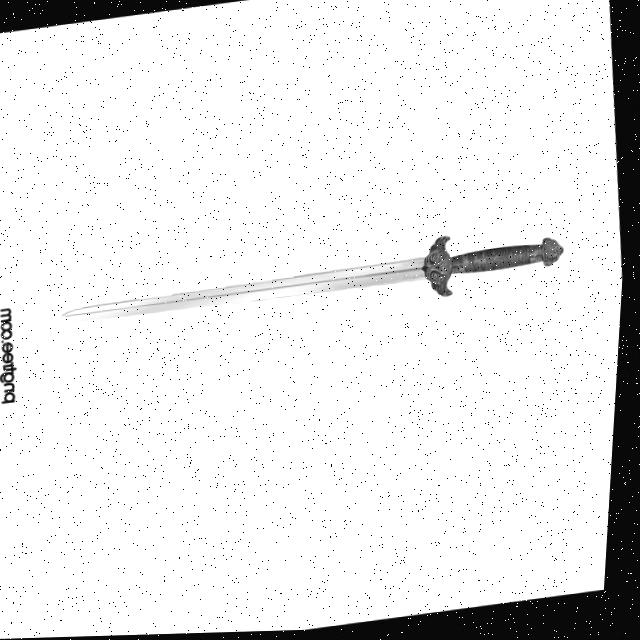knife: (60, 217, 576, 348)
